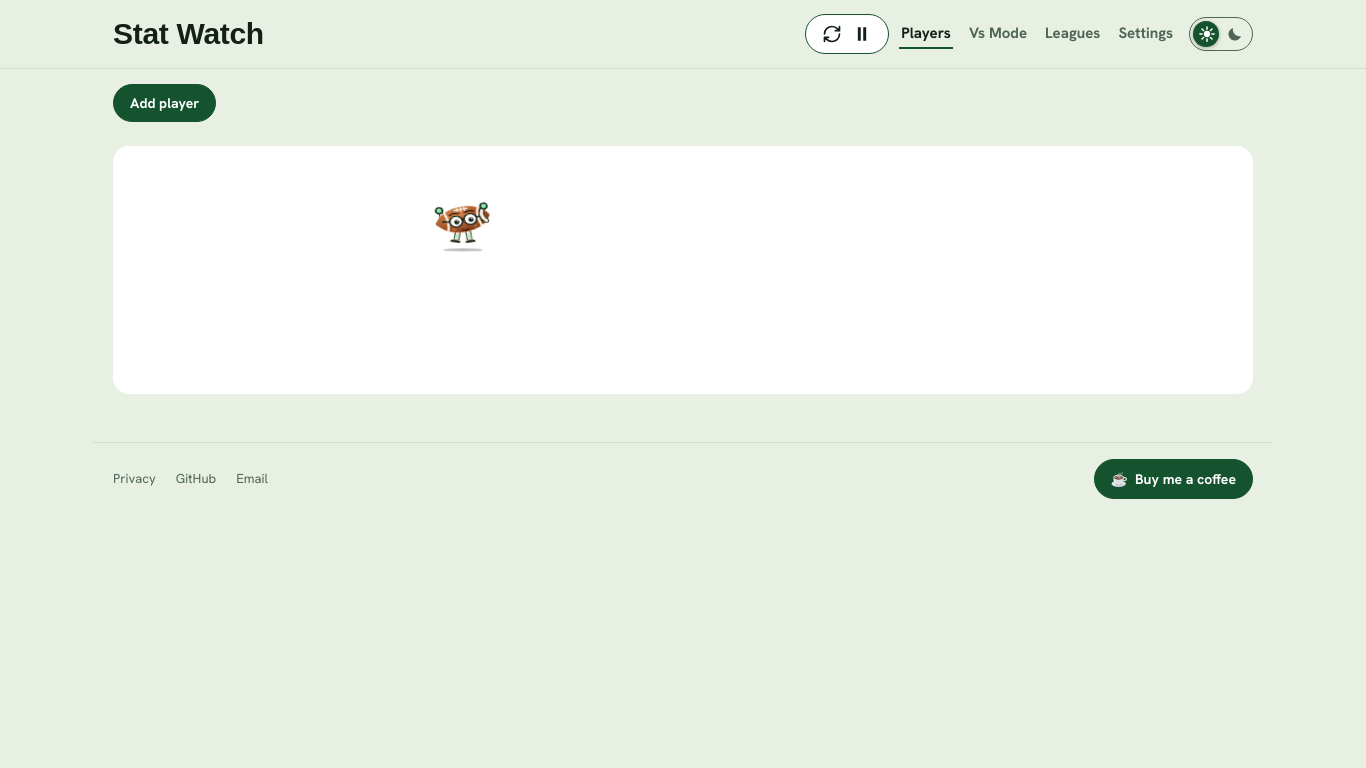
add dialog › still shows player results when only the team list fails
The image size is (1366, 768).
Click the button "Add player" at (165, 103), box top-left (113, 84), bottom-right (216, 122)
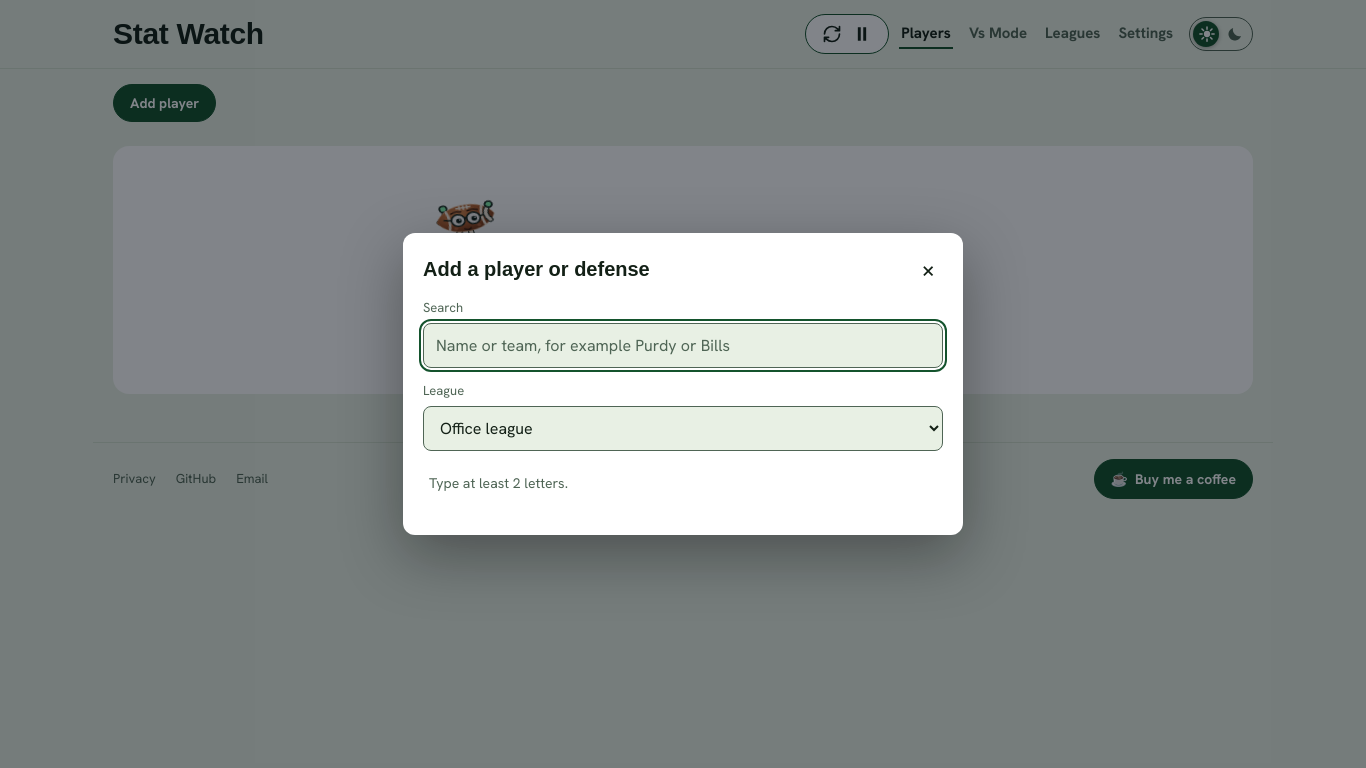
Type "josh allen" into the search field labelled "Search" at (683, 345), box top-left (423, 323), bottom-right (943, 368)
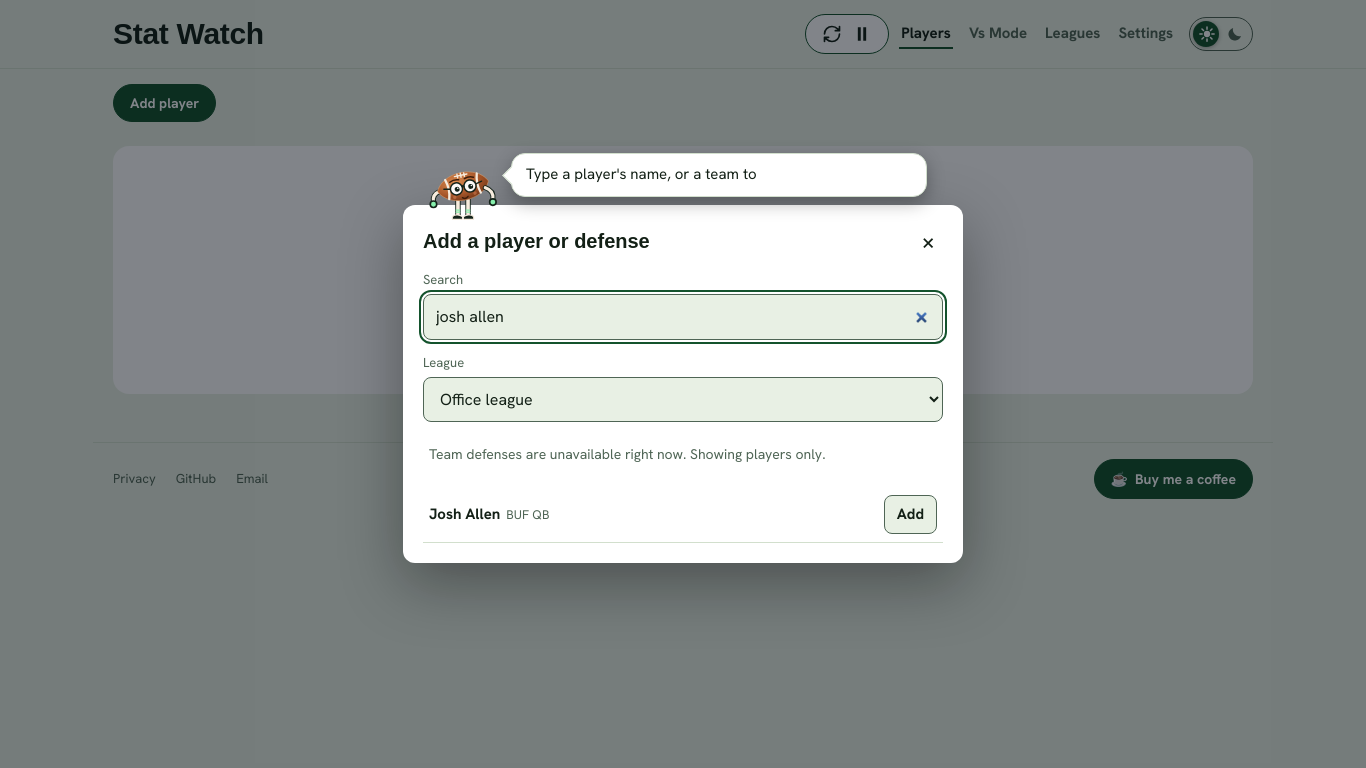
expect the button with aria-label "Add Josh Allen, BUF QB" is shown: met, box top-left (884, 495), bottom-right (937, 534)
expect the text "Team defenses are unavailable right now. Showing players only." is shown: met, box top-left (429, 445), bottom-right (826, 463)
